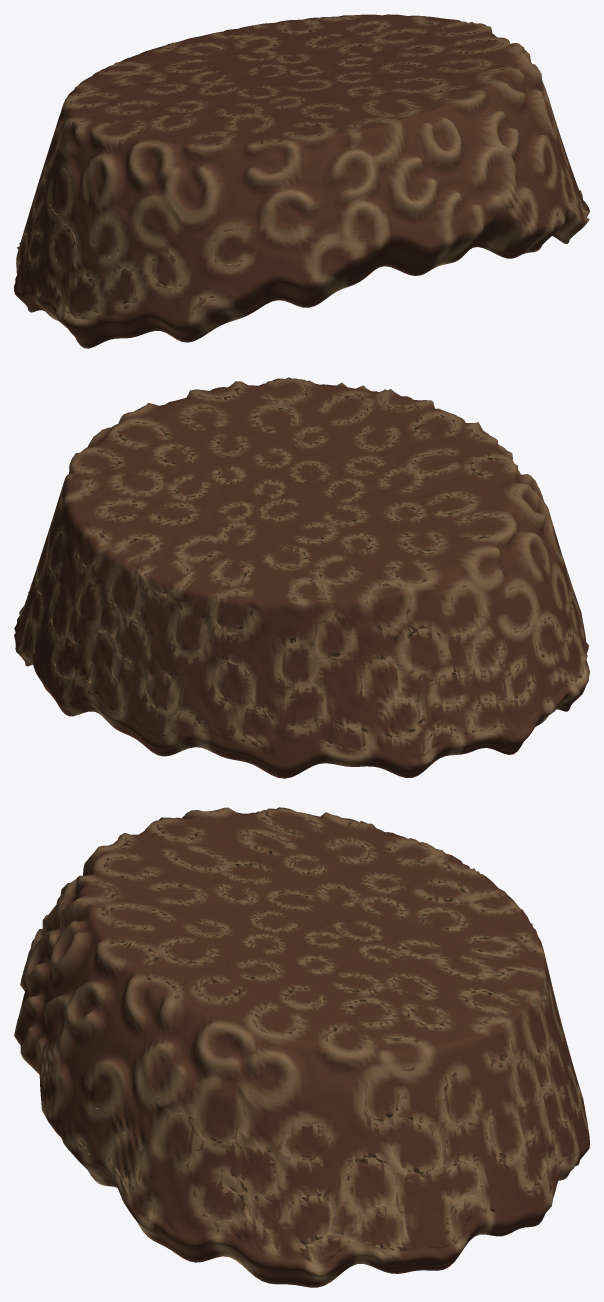
File: Highlights-ac84ffa60f70251-hair.glb
3 views of the same model, one above another, from view 1: azimuth 30°, elevation 25°; view 2: azimuth 150°, elevation 25°; view 3: azimuth 270°, elevation 25° (orthographic). The views are drawn at different scales.
Parts seen in each view (by area): view 1: 226 hair / Hair / sculpted afro251.001; view 2: 226 hair / Hair / sculpted afro251.001; view 3: 226 hair / Hair / sculpted afro251.001.
Part boxes in pixels (x1,y1,x2,y2): 226 hair / Hair / sculpted afro251.001: [14, 14, 589, 348]; 226 hair / Hair / sculpted afro251.001: [14, 377, 589, 778]; 226 hair / Hair / sculpted afro251.001: [14, 807, 589, 1287].
Size of the model in its own units: 0.9878 by 0.3891 by 0.8005.
